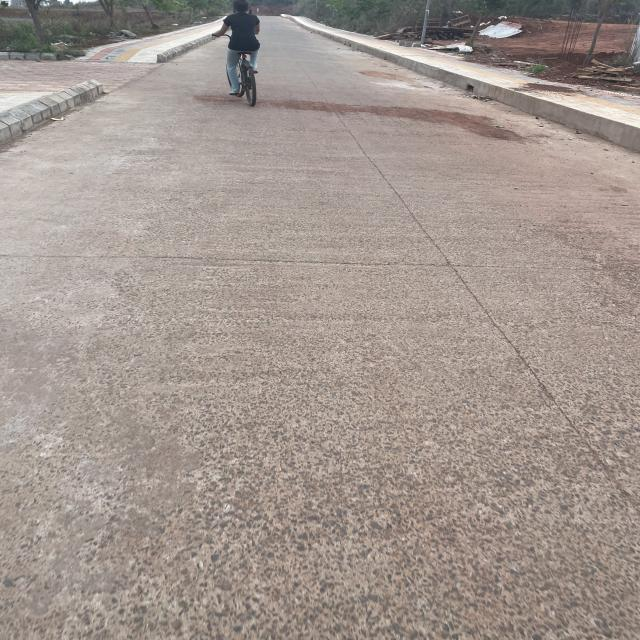D01: (498, 258, 587, 468)
D11: (52, 242, 391, 276)
